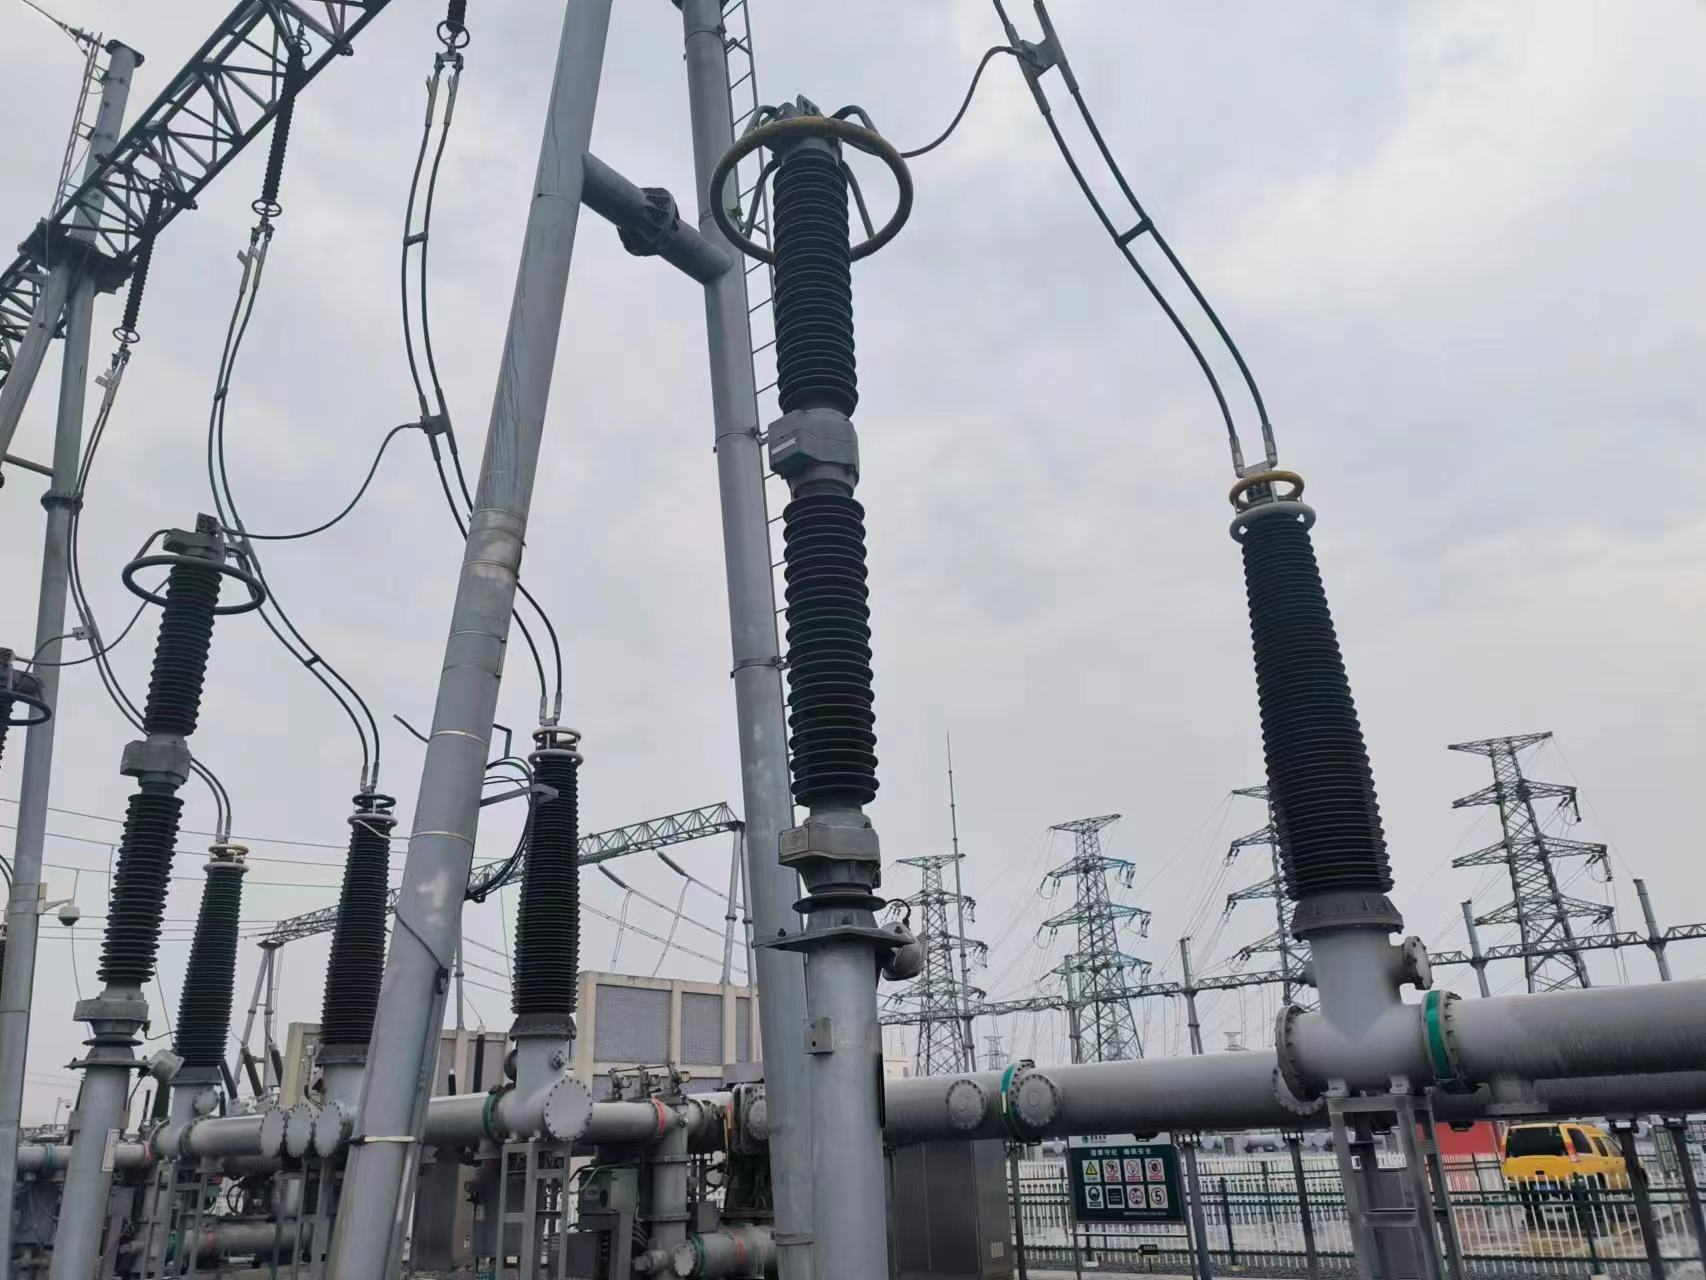Arrester: (704, 91, 920, 803), (91, 523, 268, 990)
Voltage transformer: (1217, 467, 1404, 906), (508, 729, 583, 1041), (316, 791, 401, 1054), (172, 844, 255, 1068)
